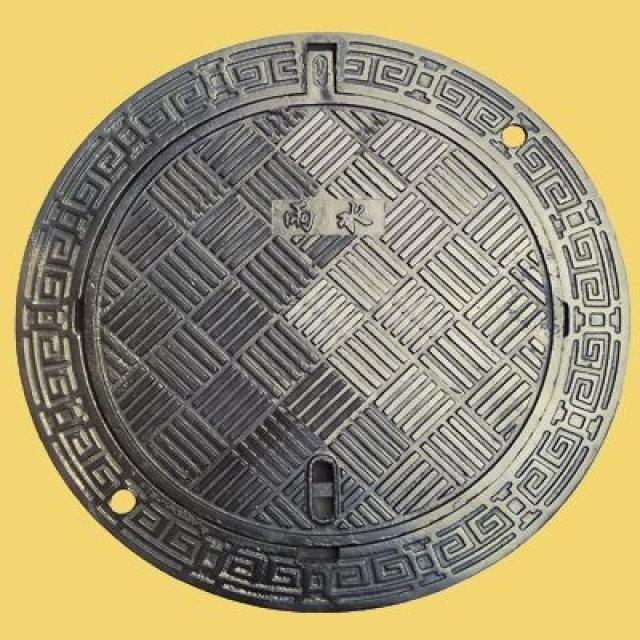manhole: (14, 32, 628, 616)
